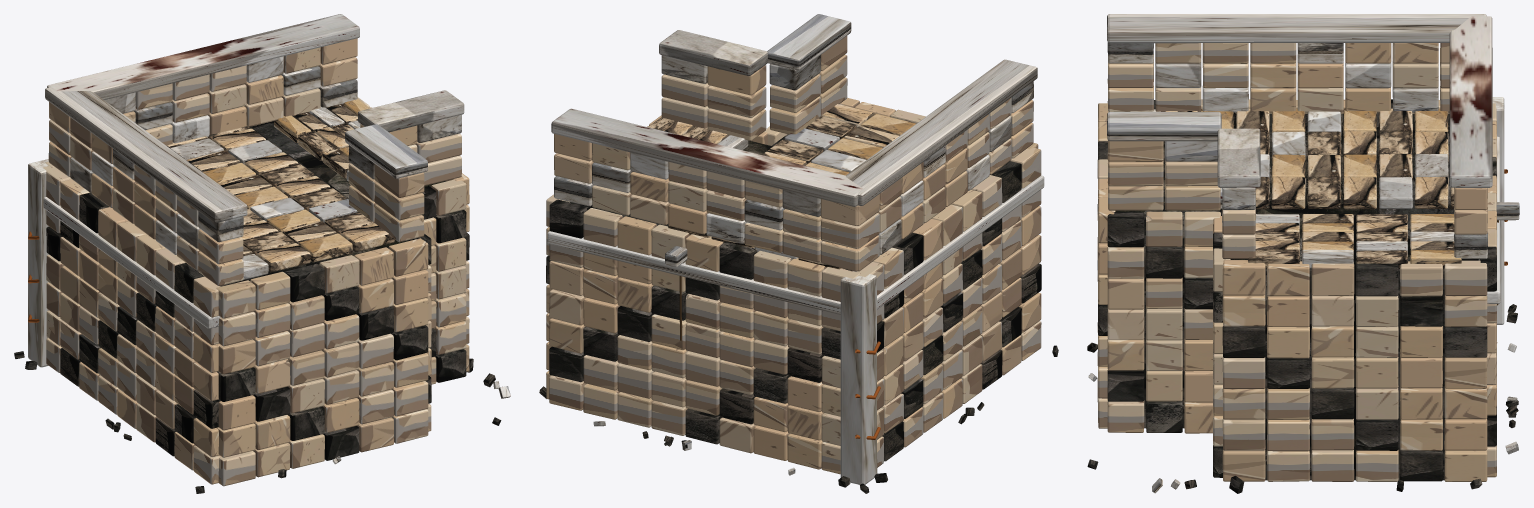
Rendered from fortress_wallwalk_corner_inner_LOD0.glb.
3 views of the same model, side by side, from view 1: azimuth 30°, elevation 25°; view 2: azimuth 150°, elevation 25°; view 3: azimuth 270°, elevation 25° (orthographic). The views are drawn at different scales.
Parts seen in each view (by area): view 1: CornerParapetCoping.001, CornerParapetCoping, InnerCornerQuoin, CornerParapetCoping.003, CornerParapetCoping.002, InnerCornerStringX, CornerRubbleHeartEast, CornerFaceAshlarY.120, CornerFaceAshlarY.121, CornerFaceAshlarY.123, CornerFaceAshlarY.125, CornerFaceAshlarY.122 (+144 smaller); view 2: CornerParapetCoping.001, InnerCornerQuoin, CornerParapetCoping, InnerCornerStringY, CornerParapetCoping.003, CornerParapetCoping.002, InnerCornerStringX, CornerParapetAshlar.056, CornerParapetAshlar.054, CornerFaceAshlarY.062, CornerParapetAshlar.058, CornerFaceAshlarY.061 (+148 smaller); view 3: CornerParapetCoping, CornerParapetCoping.001, CornerRubbleHeartEast, CornerParapetCoping.002, CornerParapetCoping.003, CornerRubbleHeartSouth, CornerFaceAshlarX.120, CornerFaceAshlarX.125, CornerFaceAshlarX.123, CornerFaceAshlarX.122, CornerFaceAshlarX.121, CornerFaceAshlarX.124 (+127 smaller).
Boxes of the visible parts, bbox=[...] form: CornerParapetCoping.001: bbox=[47, 14, 359, 99]; CornerParapetCoping: bbox=[45, 87, 247, 222]; InnerCornerQuoin: bbox=[28, 159, 49, 367]; CornerParapetCoping.003: bbox=[358, 90, 464, 132]; CornerParapetCoping.002: bbox=[345, 124, 427, 178]; InnerCornerStringX: bbox=[43, 197, 220, 328]; CornerRubbleHeartEast: bbox=[251, 121, 446, 199]; CornerFaceAshlarY.120: bbox=[216, 280, 255, 318]; CornerFaceAshlarY.121: bbox=[250, 271, 290, 310]; CornerFaceAshlarY.123: bbox=[319, 255, 359, 293]; CornerFaceAshlarY.125: bbox=[388, 238, 428, 276]; CornerFaceAshlarY.122: bbox=[285, 263, 324, 302]; CornerParapetCoping.001: bbox=[551, 108, 862, 206]; InnerCornerQuoin: bbox=[840, 271, 877, 484]; CornerParapetCoping: bbox=[846, 59, 1037, 205]; InnerCornerStringY: bbox=[547, 231, 840, 314]; CornerParapetCoping.003: bbox=[659, 30, 767, 76]; CornerParapetCoping.002: bbox=[767, 14, 851, 70]; InnerCornerStringX: bbox=[877, 175, 1044, 309]; CornerParapetAshlar.056: bbox=[707, 85, 766, 117]; CornerParapetAshlar.054: bbox=[707, 108, 766, 140]; CornerFaceAshlarY.062: bbox=[549, 199, 588, 238]; CornerParapetAshlar.058: bbox=[707, 65, 766, 95]; CornerFaceAshlarY.061: bbox=[583, 208, 622, 246]; CornerParapetCoping: bbox=[1107, 14, 1486, 43]; CornerParapetCoping.001: bbox=[1449, 16, 1492, 187]; CornerRubbleHeartEast: bbox=[1231, 112, 1478, 480]; CornerParapetCoping.002: bbox=[1107, 112, 1221, 141]; CornerParapetCoping.003: bbox=[1217, 128, 1260, 187]; CornerRubbleHeartSouth: bbox=[1115, 115, 1453, 428]; CornerFaceAshlarX.120: bbox=[1222, 260, 1265, 295]; CornerFaceAshlarX.125: bbox=[1444, 260, 1487, 295]; CornerFaceAshlarX.123: bbox=[1355, 262, 1398, 296]; CornerFaceAshlarX.122: bbox=[1311, 262, 1354, 295]; CornerFaceAshlarX.121: bbox=[1267, 261, 1309, 296]; CornerFaceAshlarX.124: bbox=[1400, 261, 1442, 296].
Size of the model in its own units: 5.49 by 4.3 by 5.44.
6 materials, 4 textured.
